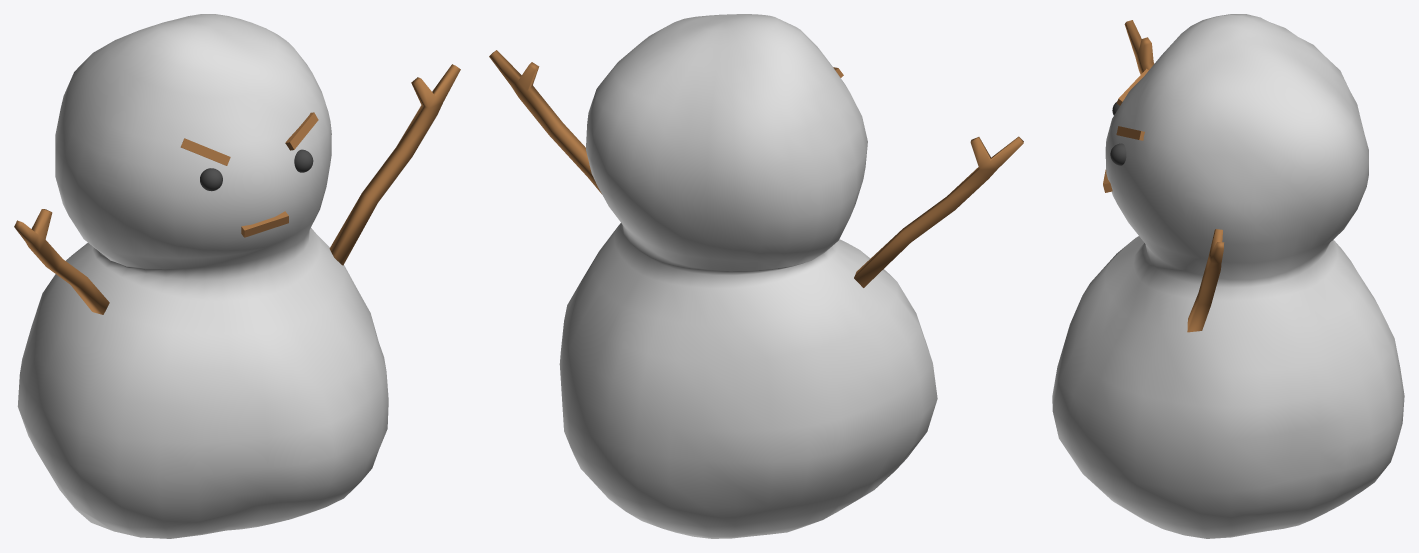
Rendered from 눈사람_Throwing.fbx.
The picture shows the model from 3 angles, left to right: view 1: azimuth 30°, elevation 25°; view 2: azimuth 150°, elevation 25°; view 3: azimuth 270°, elevation 25°; orthographic projection. The views are drawn at different scales.
Parts seen in each view (by area): view 1: Body, Left Arm, Right Arm, Mouse, Right Eyebrow; view 2: Body, Right Arm, Left Arm; view 3: Body, Left Arm, Right Arm.
Part boxes in pixels (x1,y1,x2,y2): Body: [17, 14, 388, 538]; Left Arm: [329, 64, 460, 265]; Right Arm: [14, 209, 109, 314]; Mouse: [241, 211, 288, 237]; Right Eyebrow: [180, 138, 230, 165]; Body: [559, 14, 937, 538]; Right Arm: [854, 136, 1023, 287]; Left Arm: [489, 50, 601, 193]; Body: [1052, 14, 1404, 538]; Left Arm: [1187, 229, 1224, 332]; Right Arm: [1124, 20, 1154, 74].
Size of the model in its own units: 295 by 284 by 191.
